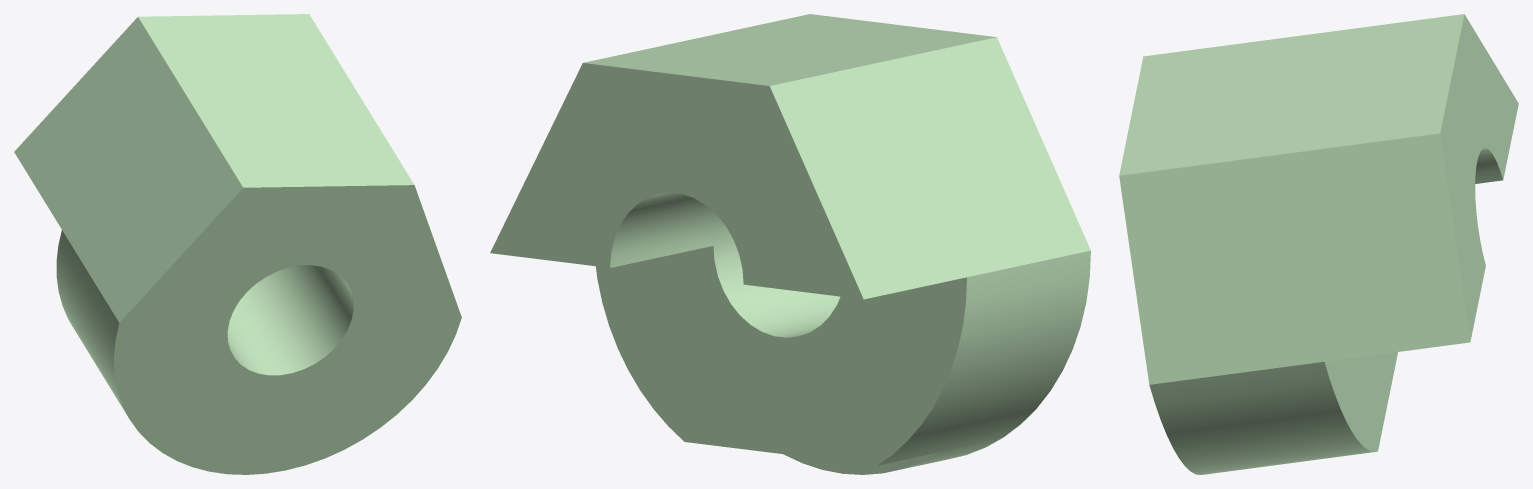
File: FIG1A(BLENDER).gltf
The picture shows the model from 3 angles, left to right: view 1: azimuth 30°, elevation 25°; view 2: azimuth 150°, elevation 25°; view 3: azimuth 270°, elevation 25°; orthographic projection. The views are drawn at different scales.
Visible parts, largest first — view 1: Fig3-Q1a; view 2: Fig3-Q1a; view 3: Fig3-Q1a.
Boxes of the visible parts, x1,y1,x2,y2 form: Fig3-Q1a: (14, 14, 461, 474); Fig3-Q1a: (490, 14, 1090, 474); Fig3-Q1a: (1119, 14, 1518, 474).
Bounding box in the file's own units: 7.71 × 7.78 × 6.61.
